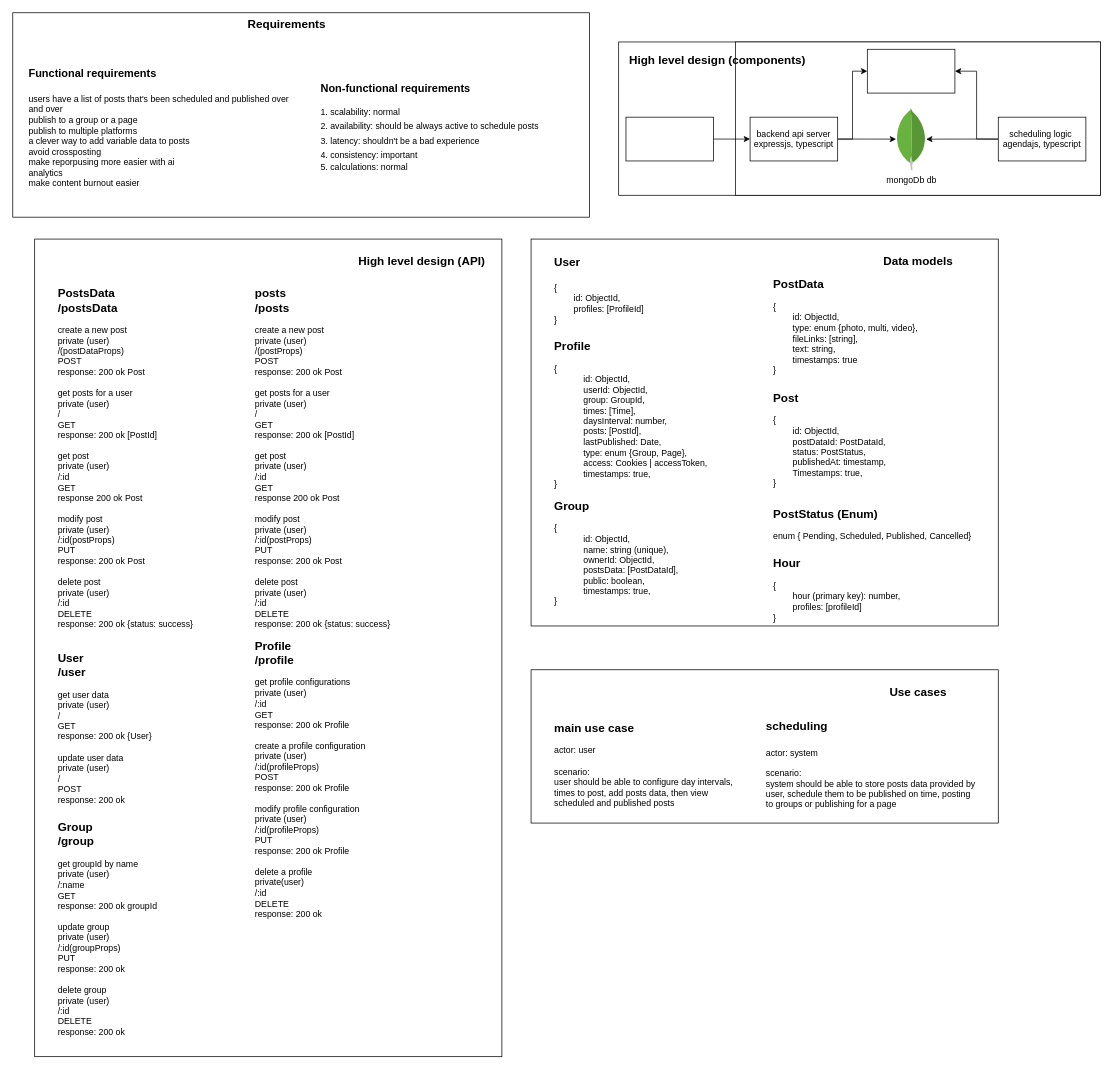
This 1115x1069 diagram has some shape labels left out. Here are the shapes that lost their labels. From the top down, the centre of each, then its label:
At pixel 911 71: "file storage".
At pixel 669 138: "user interface nextjs, typescript".
